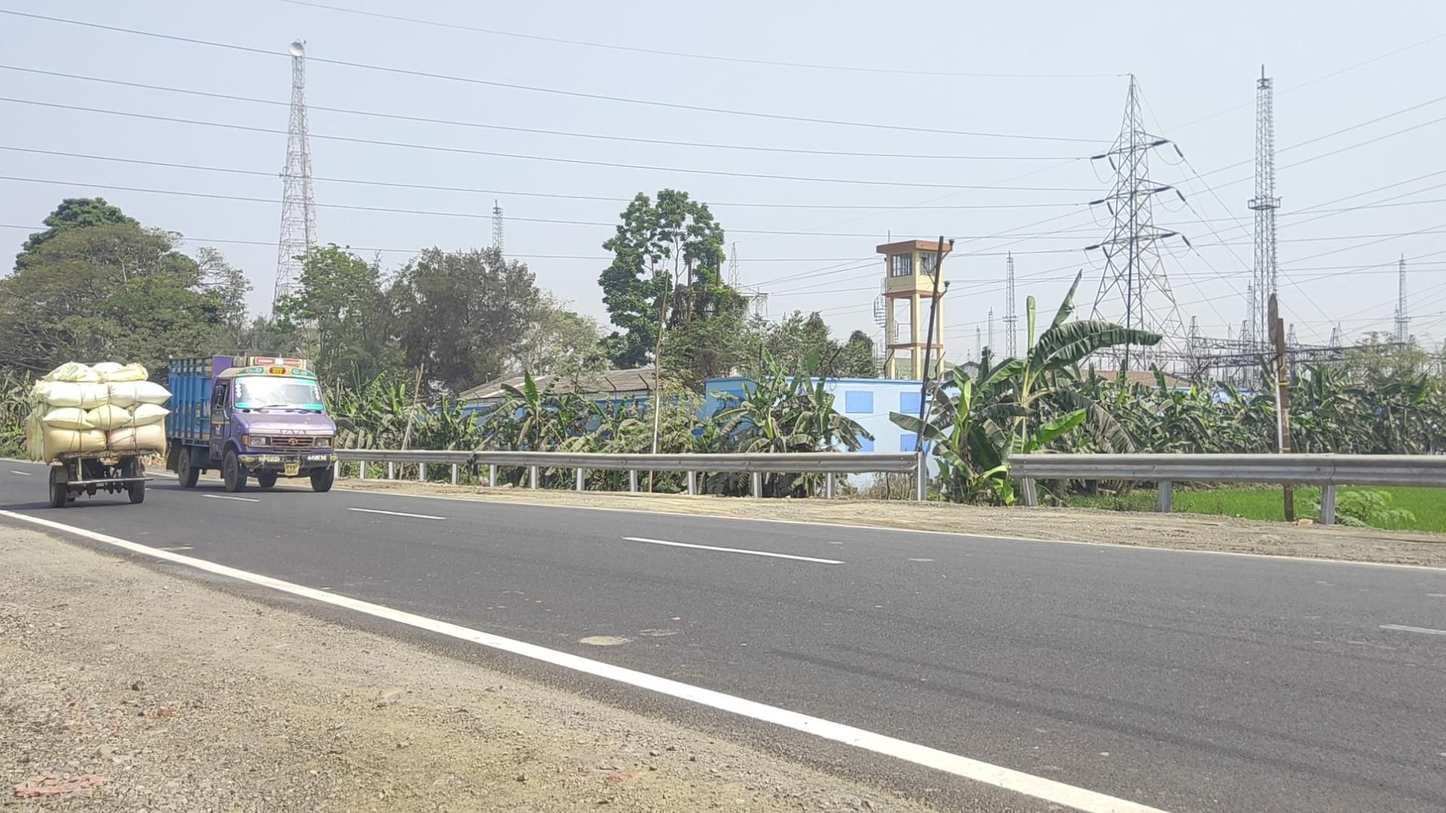truck: (166, 353, 338, 494)
